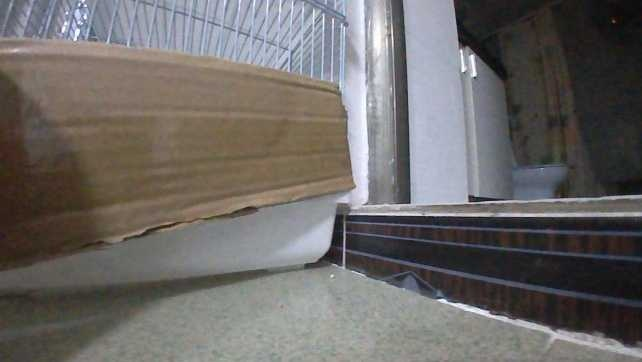door_sill: (328, 195, 641, 347)
toilet: (513, 161, 567, 199)
